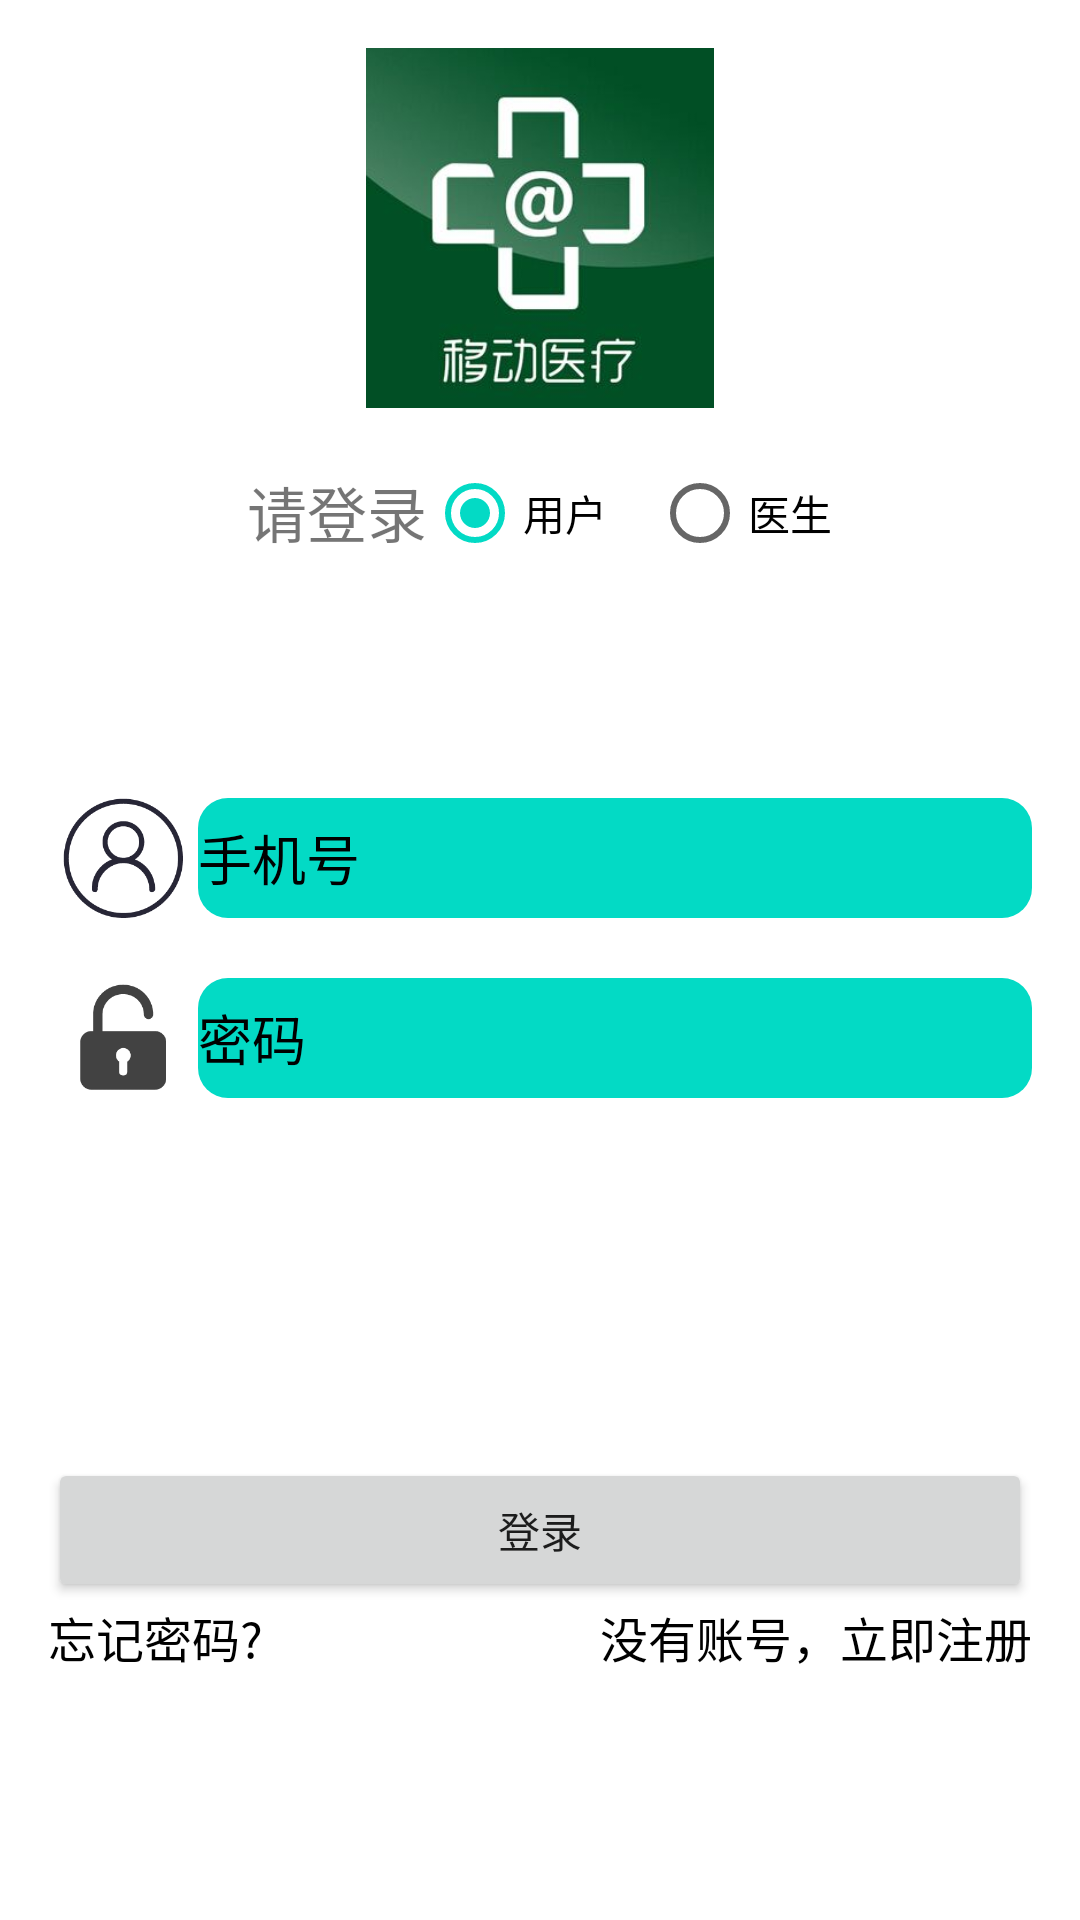

Icon bounding boxes for this 1080 × 1920 phone screenshot, format (x1, y1, x2, y2):
yonghu: (63, 798, 183, 918)
